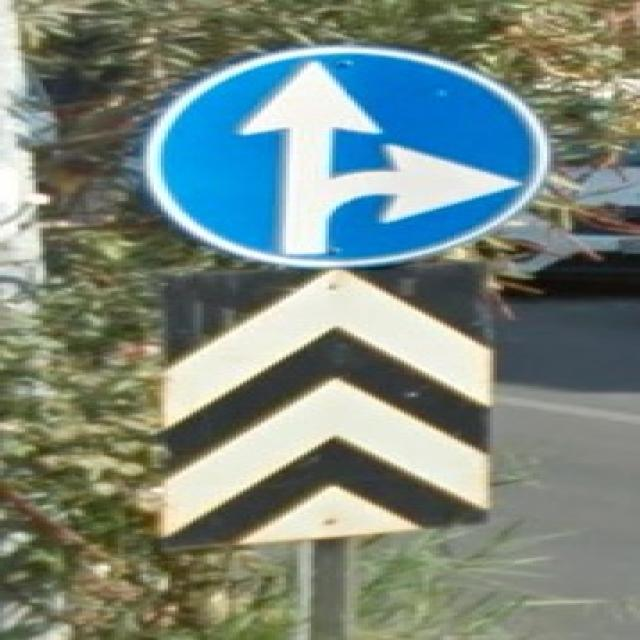Straight or Right: (146, 53, 539, 256)
